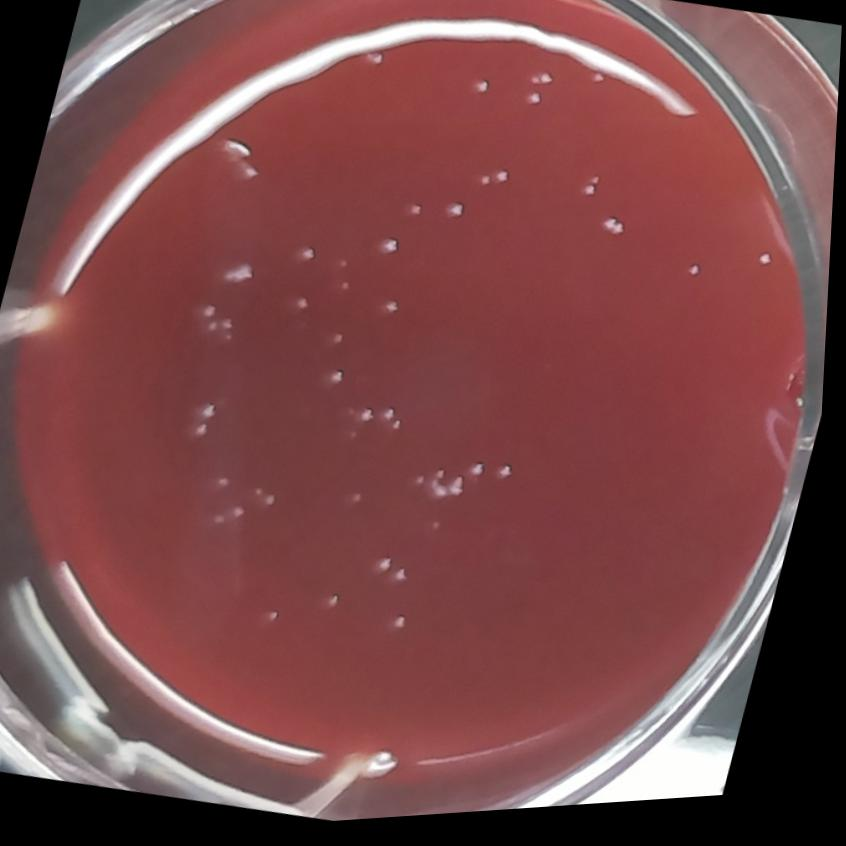staphylo-: (217, 257, 262, 293), (389, 605, 424, 643), (234, 158, 269, 190), (321, 587, 354, 619), (599, 219, 633, 250), (577, 178, 607, 213), (357, 48, 392, 78), (436, 199, 468, 229), (290, 243, 321, 273), (289, 293, 318, 325), (525, 72, 560, 98), (265, 604, 291, 637), (468, 458, 496, 488), (218, 317, 244, 348), (376, 555, 403, 584), (346, 488, 373, 516), (496, 463, 522, 492), (196, 301, 222, 330), (393, 567, 421, 593), (327, 329, 353, 356), (201, 398, 227, 425), (212, 471, 238, 498), (755, 255, 780, 283), (428, 482, 455, 507), (379, 238, 405, 263), (264, 491, 289, 516), (470, 80, 495, 105), (212, 509, 236, 535), (357, 406, 381, 431), (522, 91, 547, 115), (403, 204, 428, 226), (453, 480, 474, 506), (193, 422, 216, 445), (335, 256, 356, 280), (587, 75, 609, 97), (341, 405, 363, 427), (233, 504, 254, 527), (430, 519, 451, 541), (328, 369, 350, 390), (684, 267, 705, 289), (384, 302, 404, 325), (492, 172, 513, 193), (392, 418, 411, 440), (251, 485, 271, 505), (337, 279, 356, 300), (383, 407, 401, 429), (478, 176, 496, 196), (349, 429, 366, 450), (437, 467, 454, 487), (205, 320, 223, 338), (415, 477, 432, 496)
